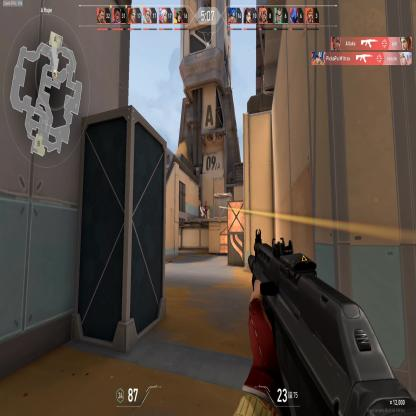enemy: (204, 200, 208, 218)
